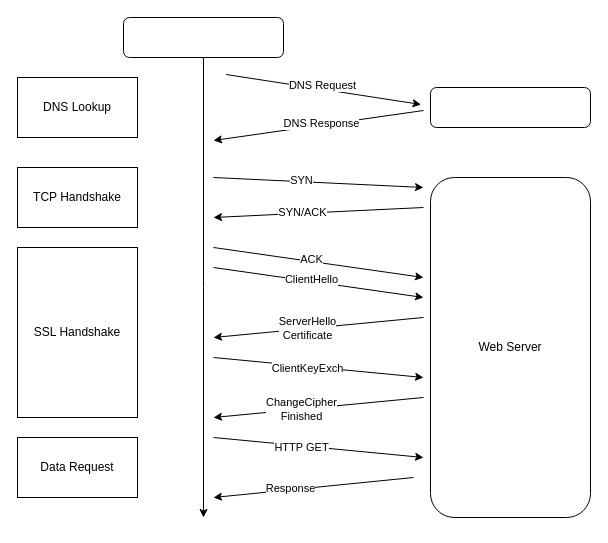
The diagram is 608 pixels wide and 543 high, and some of its shapes have lost their labels. Each missing label, with the centre of its shape:
"Client" belongs at (x=203, y=37).
"DNS Server" belongs at (x=510, y=107).
